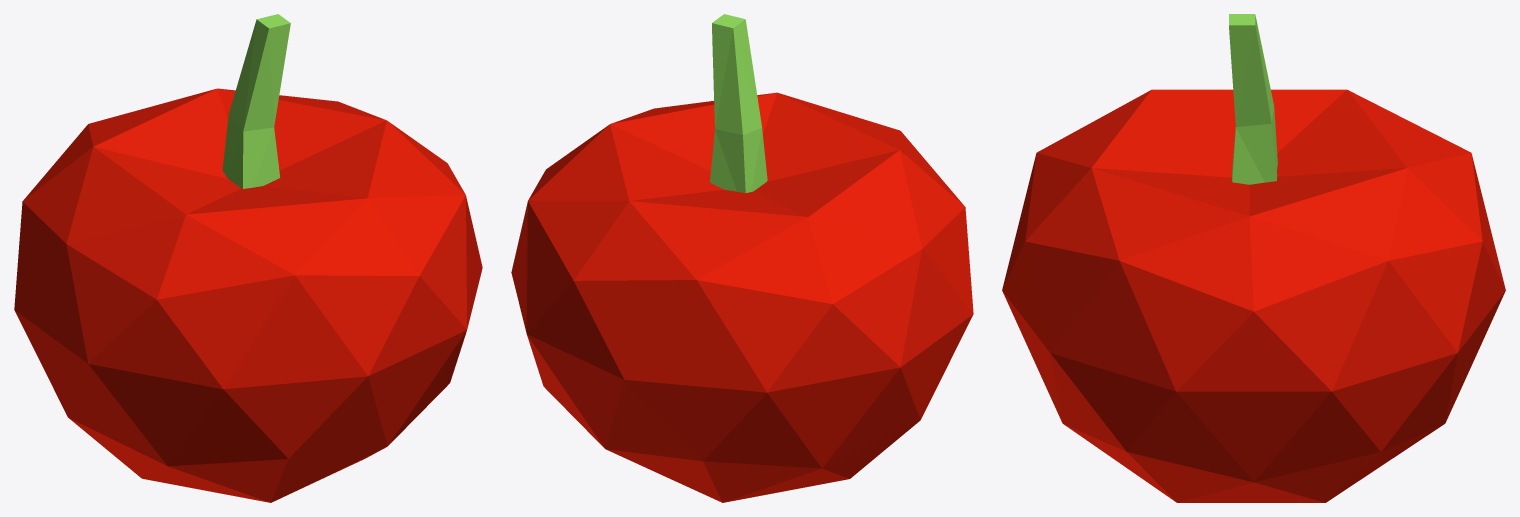
File: apple.fbx
The picture shows the model from 3 angles, left to right: view 1: azimuth 30°, elevation 25°; view 2: azimuth 150°, elevation 25°; view 3: azimuth 270°, elevation 25°; orthographic projection. The views are drawn at different scales.
Visible parts, largest first — view 1: apple; view 2: apple; view 3: apple.
Part boxes in pixels (x1,y1,x2,y2): apple: (14, 14, 482, 502); apple: (511, 14, 973, 502); apple: (1002, 14, 1505, 502).
Bounding box in the file's own units: 87.23 × 97.52 × 91.27.
